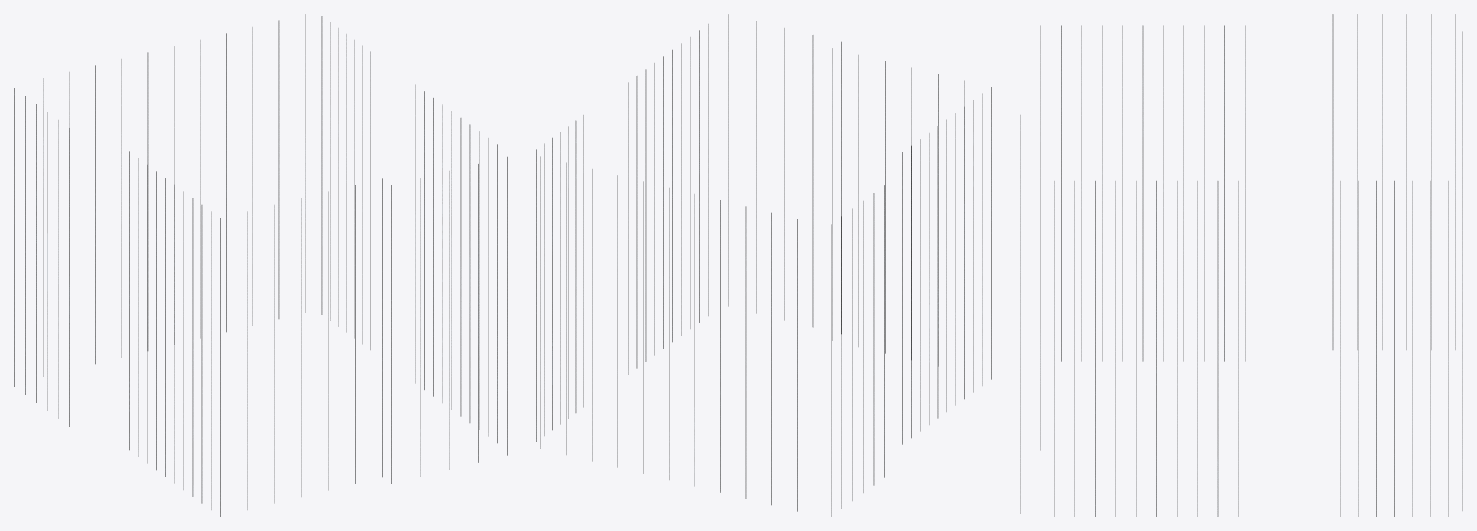
File: vertical_rails.fbx
3 renders of one model, left to right at view 1: azimuth 30°, elevation 25°; view 2: azimuth 150°, elevation 25°; view 3: azimuth 270°, elevation 25°, orthographic. The views are drawn at different scales.
Parts seen in each view (by area): view 1: bara_verticala1, bara_verticala11, bara_verticala22, bara_verticala24, bara_verticala34, bara_verticala36, bara_verticala53; view 2: bara_verticala9, bara_verticala30, bara_verticala32, bara_verticala37, bara_verticala49, bara_verticala33, bara_verticala42; view 3: bara_verticala19, bara_verticala30, bara_verticala35.
Part boxes in pixels (bbox=[...]): bara_verticala1: bbox=[147, 52, 148, 350]; bara_verticala11: bbox=[201, 205, 202, 503]; bara_verticala22: bbox=[192, 198, 193, 496]; bara_verticala24: bbox=[321, 16, 322, 314]; bara_verticala34: bbox=[469, 124, 470, 422]; bara_verticala36: bbox=[460, 118, 461, 416]; bara_verticala53: bbox=[278, 20, 279, 318]; bara_verticala9: bbox=[937, 126, 938, 418]; bara_verticala30: bbox=[636, 76, 637, 368]; bara_verticala32: bbox=[745, 206, 746, 498]; bara_verticala37: bbox=[645, 69, 646, 361]; bara_verticala49: bbox=[873, 193, 874, 485]; bara_verticala33: bbox=[812, 35, 813, 327]; bara_verticala42: bbox=[575, 120, 576, 412]; bara_verticala19: bbox=[1142, 25, 1143, 361]; bara_verticala30: bbox=[1217, 181, 1218, 516]; bara_verticala35: bbox=[1332, 14, 1333, 349].
Size of the model in its own units: 29.08 by 27.29 by 32.58.
